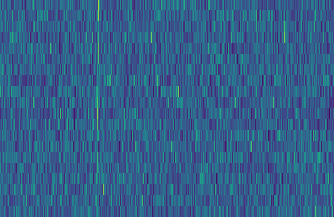signal: (90, 0, 102, 217)
